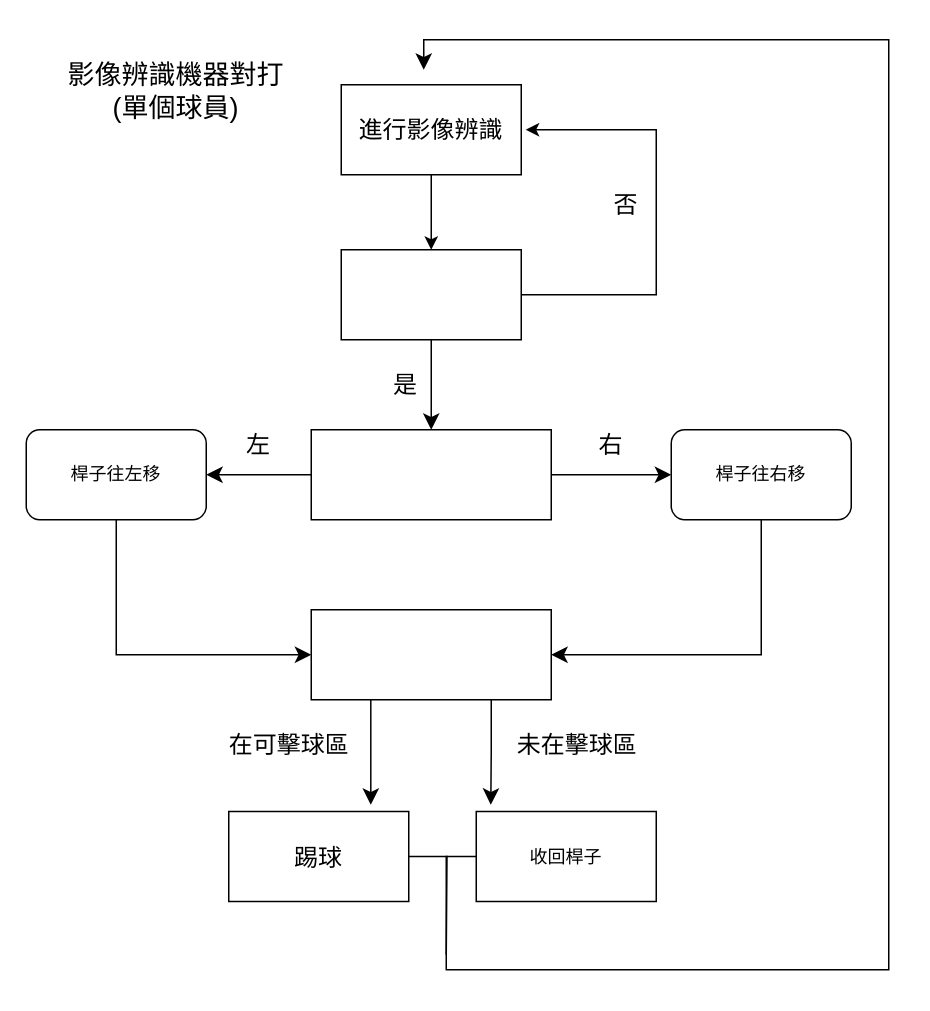
Some shapes in this 930 by 1011 pixel diagram are drawn without their labels. Each missing label, with the centre of its shape:
是否辨識出物體: (x=430, y=294)
球在桿子左邊或右邊: (x=430, y=474)
計算球是否在擊球區: (x=430, y=654)
